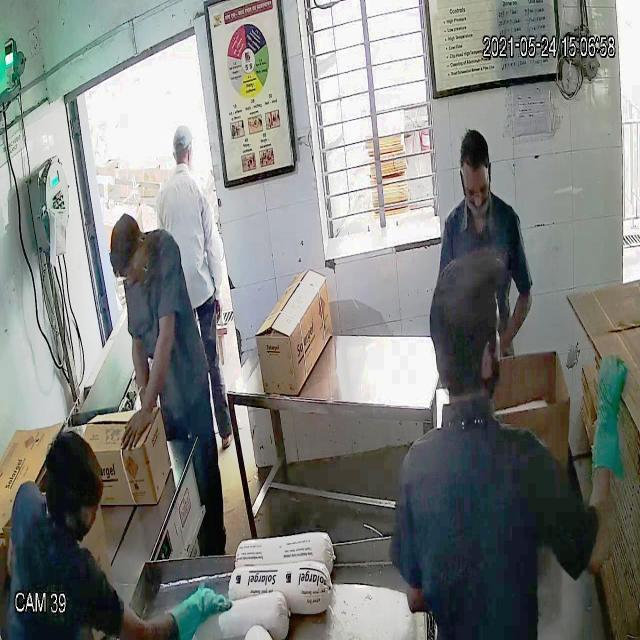glasses: (458, 168, 495, 207)
